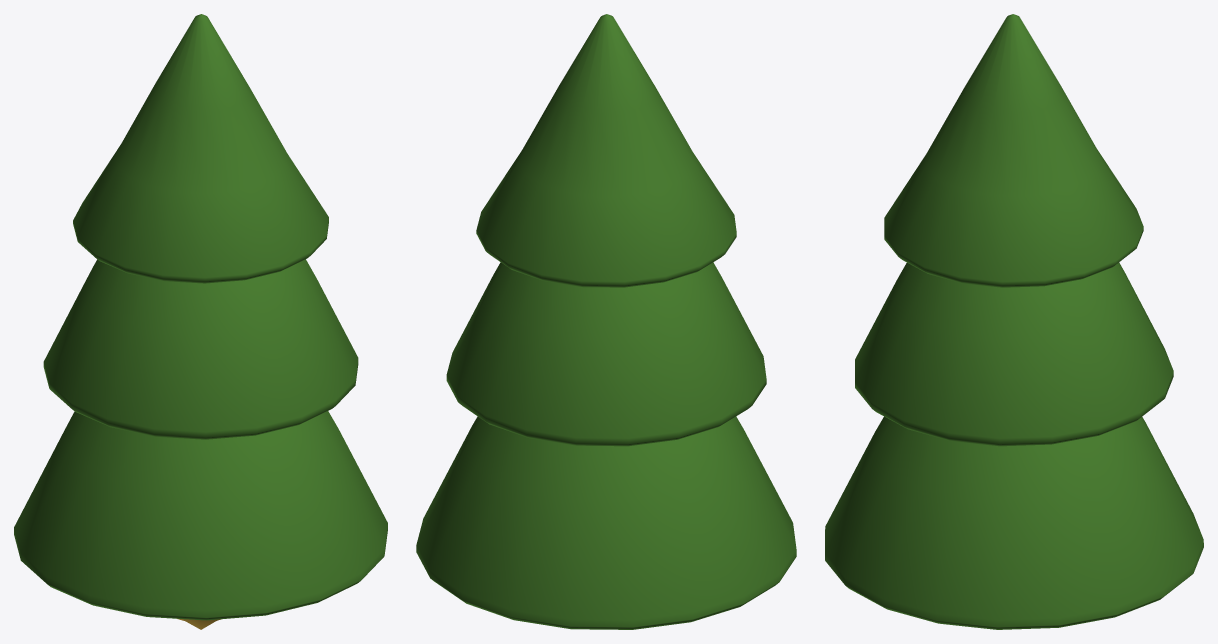
File: sapin_smooth.fbx
The picture shows the model from 3 angles, left to right: view 1: azimuth 30°, elevation 25°; view 2: azimuth 150°, elevation 25°; view 3: azimuth 270°, elevation 25°; orthographic projection.
Visible parts, largest first — view 1: Circle.003; view 2: Circle.003; view 3: Circle.003.
Boxes of the visible parts, x1,y1,x2,y2 form: Circle.003: (14, 14, 387, 629); Circle.003: (416, 14, 796, 629); Circle.003: (825, 14, 1203, 629).
Size of the model in its own units: 201 by 352 by 200.
